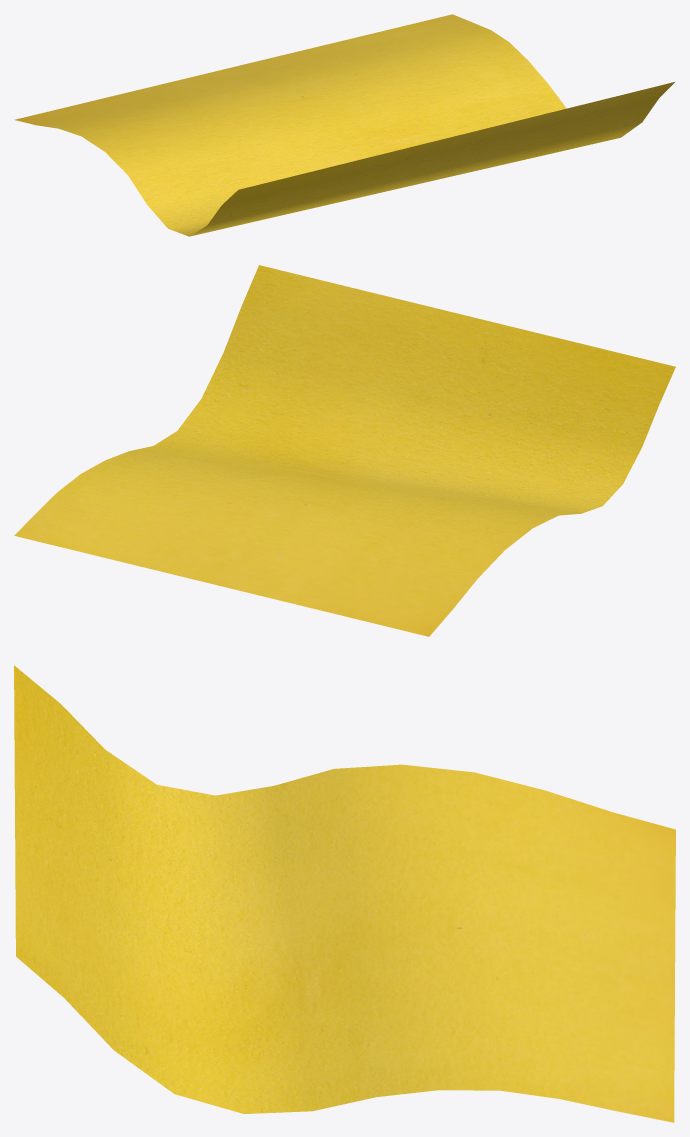
The model's file is ostatyStickyPaper.fbx.
3 renders of one model, top to bottom at view 1: azimuth 30°, elevation 25°; view 2: azimuth 150°, elevation 25°; view 3: azimuth 270°, elevation 25°, orthographic. The views are drawn at different scales.
Parts seen in each view (by area): view 1: post_it.001; view 2: post_it.001; view 3: post_it.001.
Part boxes in pixels (<box>): post_it.001: <box>14,14,674,236</box>; post_it.001: <box>14,265,675,636</box>; post_it.001: <box>14,665,675,1122</box>.
Size of the model in its own units: 208 by 49.75 by 192.
